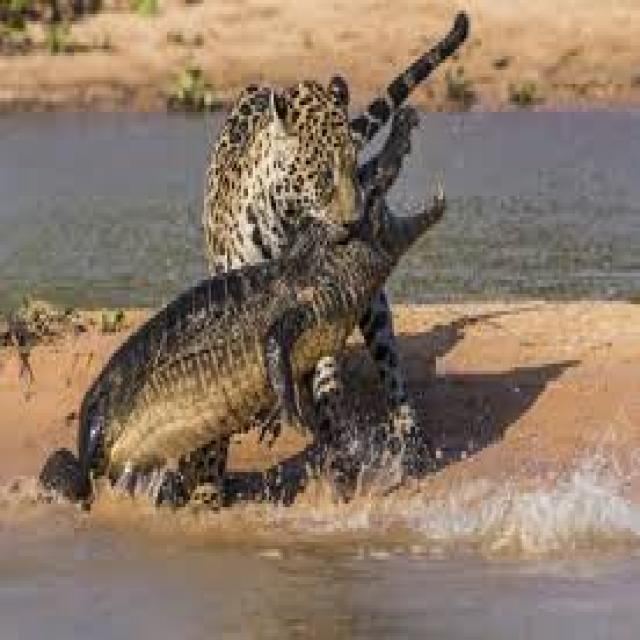Jaguar: (197, 0, 475, 483)
